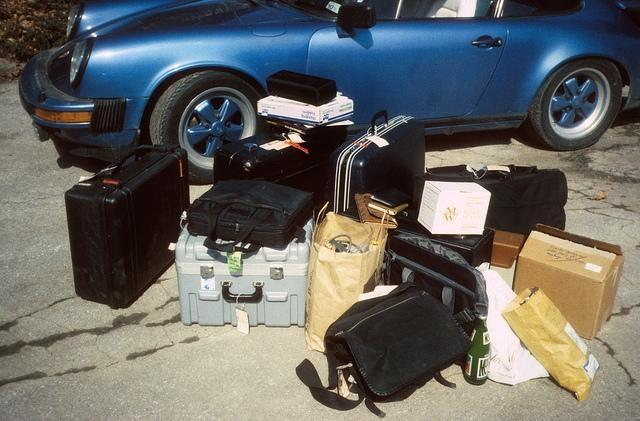car: (18, 1, 640, 184)
